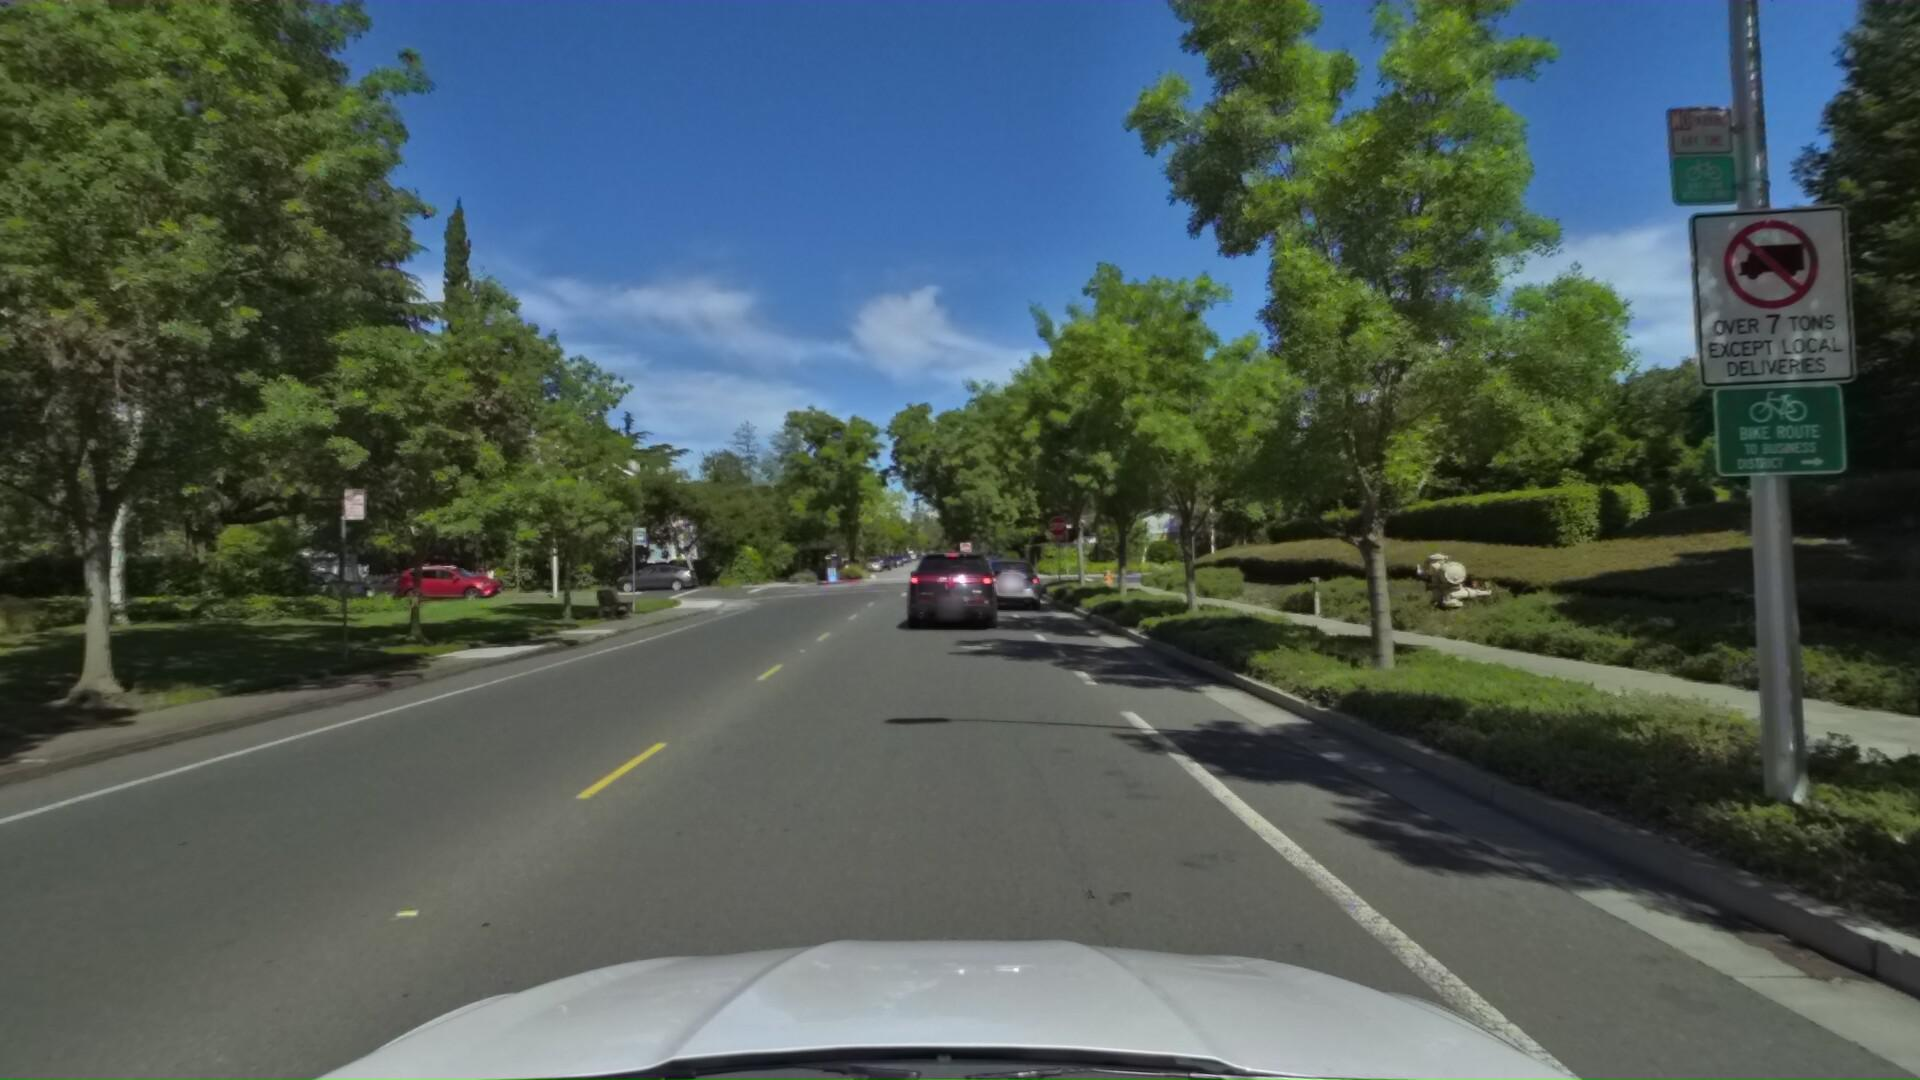car: (891, 545, 1001, 640), (388, 563, 510, 607), (252, 568, 381, 609), (971, 553, 1047, 615), (313, 574, 415, 608), (607, 564, 704, 599), (969, 545, 1025, 603)
